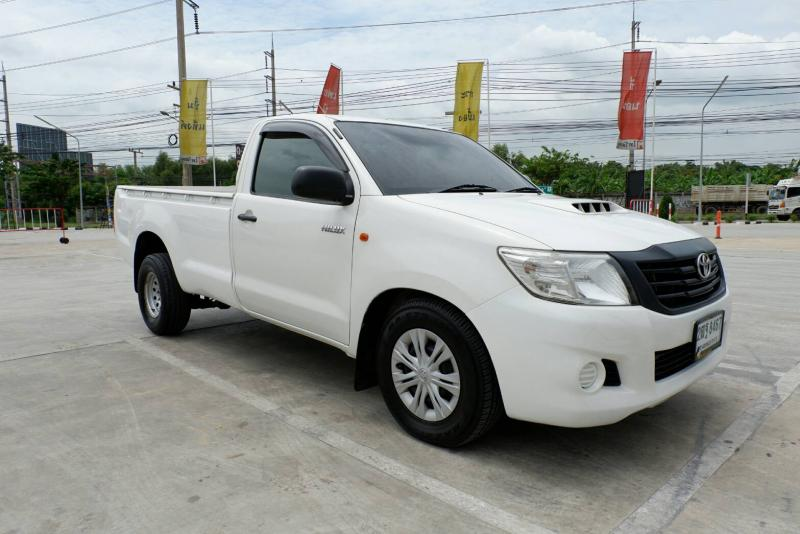pickup: (109, 108, 736, 451)
